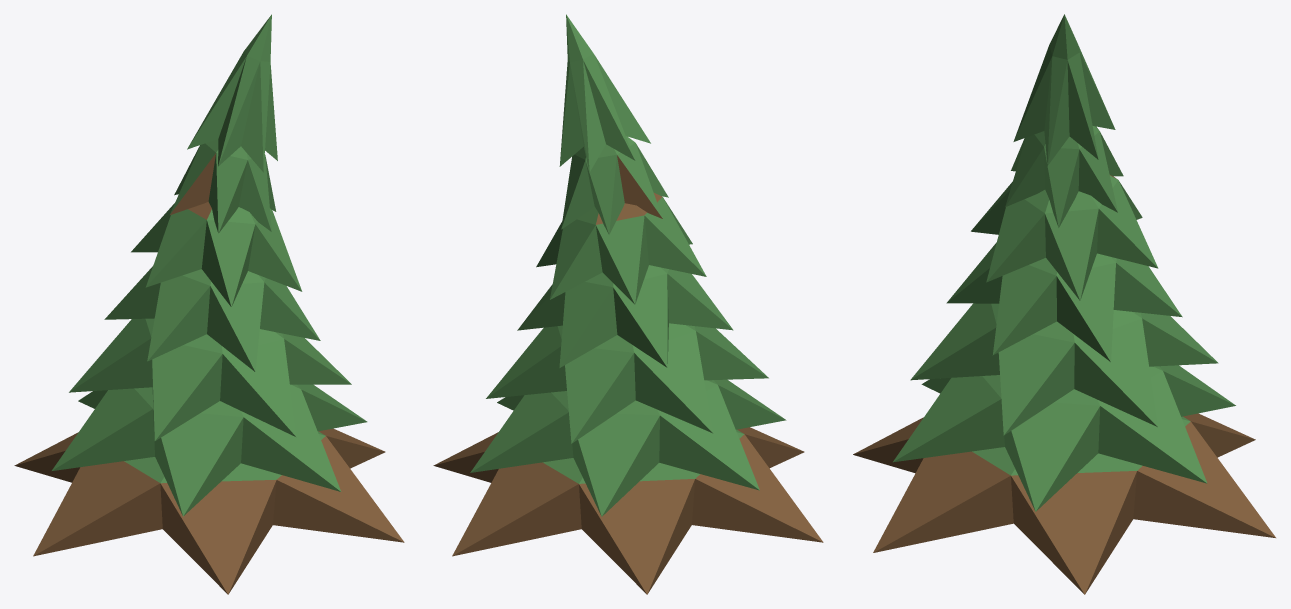
The model's file is tree3d-086.glb.
3 views of the same model, side by side, from view 1: azimuth 30°, elevation 25°; view 2: azimuth 150°, elevation 25°; view 3: azimuth 270°, elevation 25° (orthographic). The views are drawn at different scales.
Visible parts, largest first — view 1: tree3d-086; view 2: tree3d-086; view 3: tree3d-086.
Part boxes in pixels (<box>): tree3d-086: <box>14,14,404,594</box>; tree3d-086: <box>433,14,823,594</box>; tree3d-086: <box>853,14,1275,594</box>.
Size of the model in its own units: 0.7831 by 1 by 0.7125.
